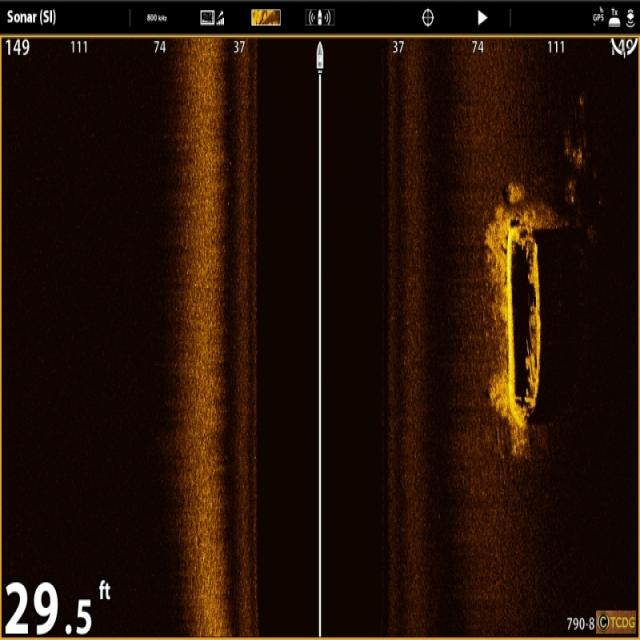ship: (482, 182, 550, 436)
